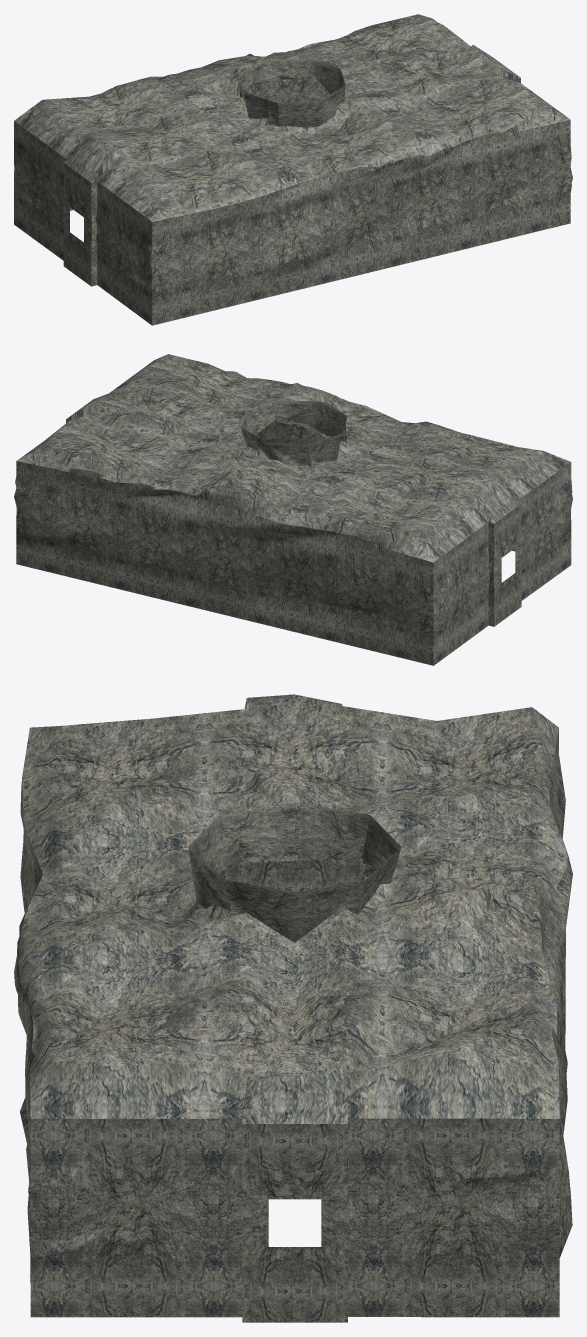
3 renders of one model, top to bottom at view 1: azimuth 30°, elevation 25°; view 2: azimuth 150°, elevation 25°; view 3: azimuth 270°, elevation 25°, orthographic. The views are drawn at different scales.
Parts seen in each view (by area): view 1: L19; view 2: L19; view 3: L19.
Part boxes in pixels (x1,y1,x2,y2): L19: (14, 14, 572, 325); L19: (14, 354, 572, 665); L19: (14, 694, 572, 1322).
Bounding box in the file's own units: 1801 × 573 × 1056.
